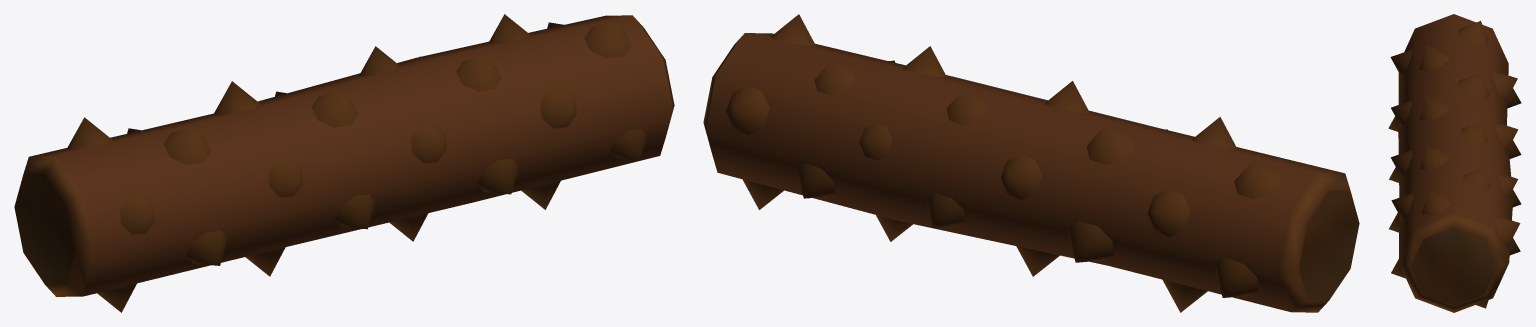
Rendered from obstacle_2_002.fbx.
3 renders of one model, left to right at view 1: azimuth 30°, elevation 25°; view 2: azimuth 150°, elevation 25°; view 3: azimuth 270°, elevation 25°, orthographic. The views are drawn at different scales.
Parts seen in each view (by area): view 1: obstacle_2_002; view 2: obstacle_2_002; view 3: obstacle_2_002.
Boxes of the visible parts, x1,y1,x2,y2 form: obstacle_2_002: (14,14,674,312); obstacle_2_002: (703,14,1359,312); obstacle_2_002: (1388,14,1521,312).
Size of the model in its own units: 583 by 159 by 159.
